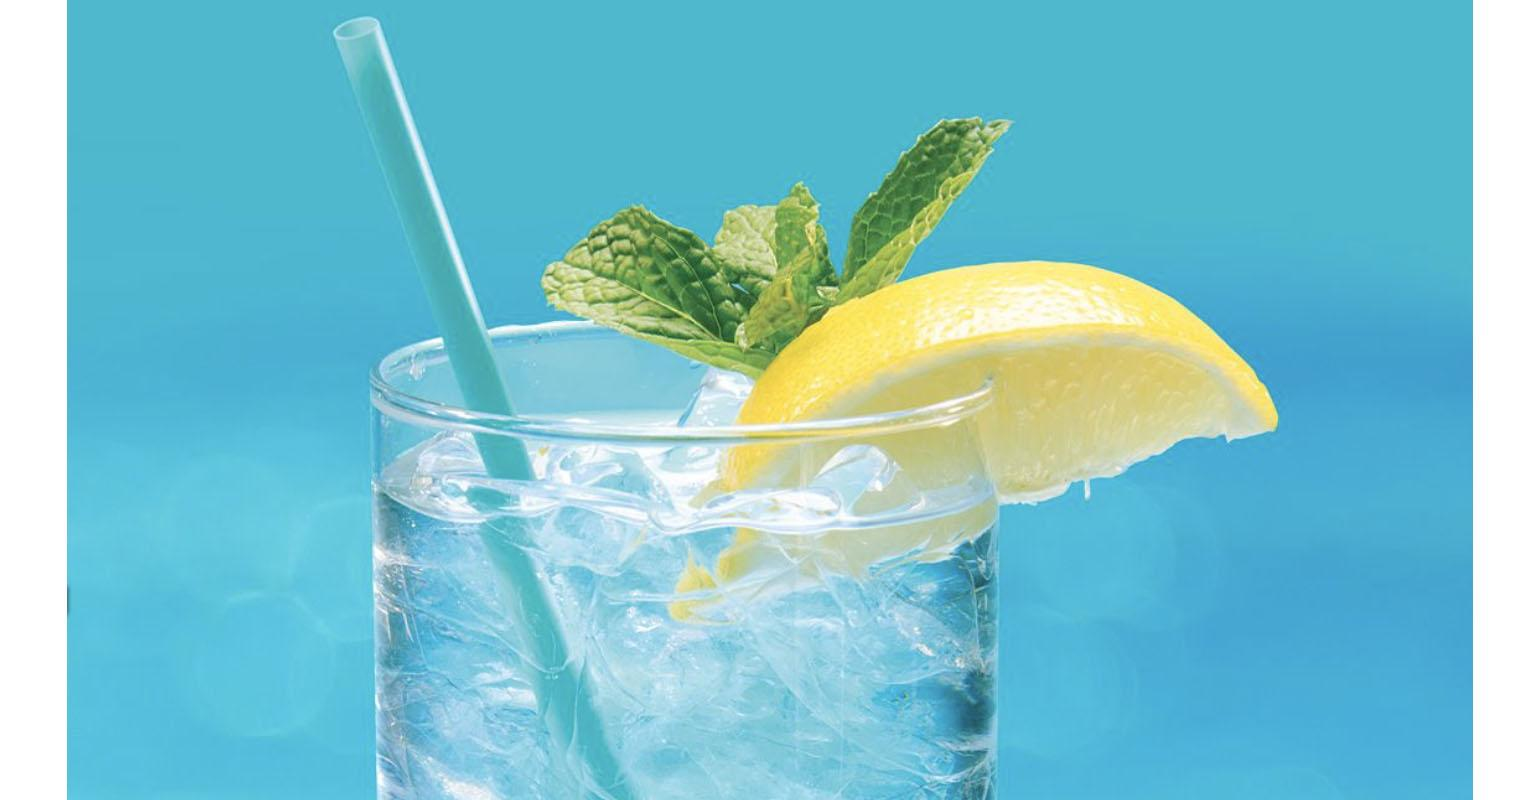Drinking Straw: (327, 14, 640, 800)
